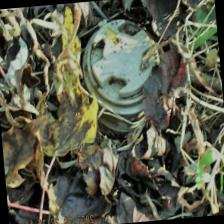M14: (80, 18, 166, 116)
